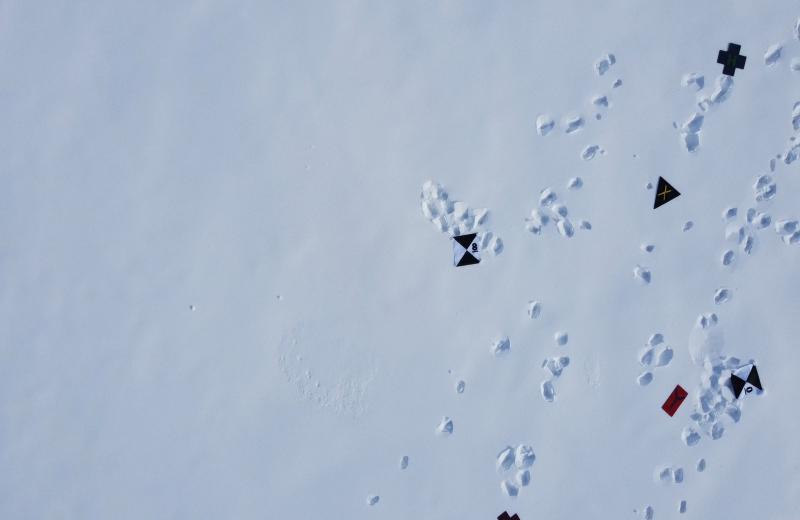Cross: (711, 34, 754, 90)
Rectangle: (650, 370, 704, 428)
Triangle: (645, 158, 691, 216)
